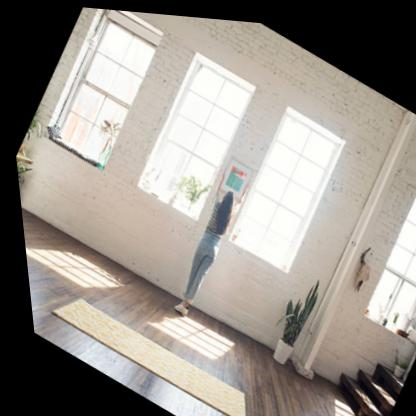Window: (121, 43, 266, 222), (214, 98, 355, 273), (32, 2, 174, 168), (347, 175, 416, 337)
